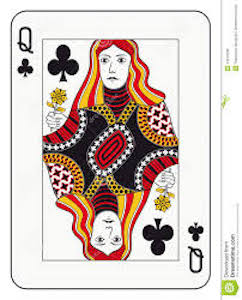QueenOfHearts: (7, 5, 215, 293)
